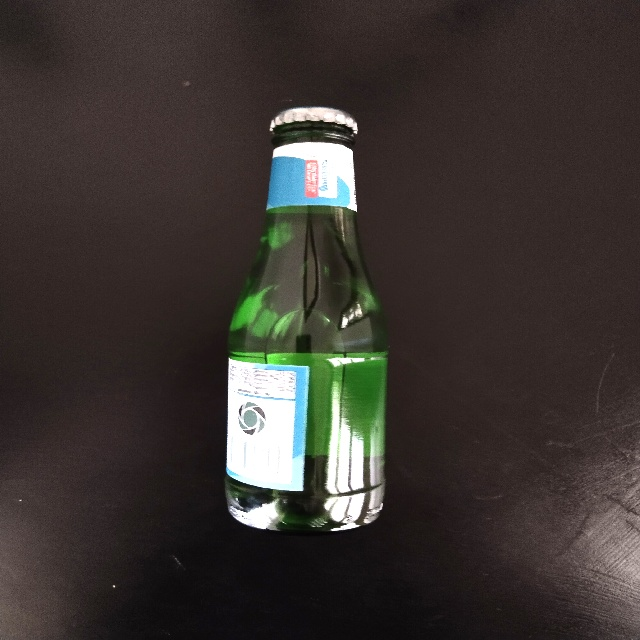beypazari_maden_suyu: (228, 108, 387, 357), (226, 357, 386, 530)
